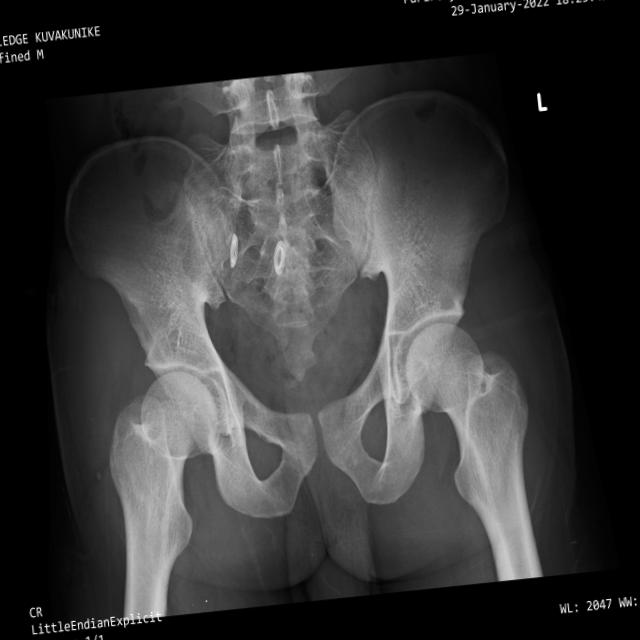normal-left: (406, 322, 542, 577)
normal-right: (109, 371, 217, 611)
